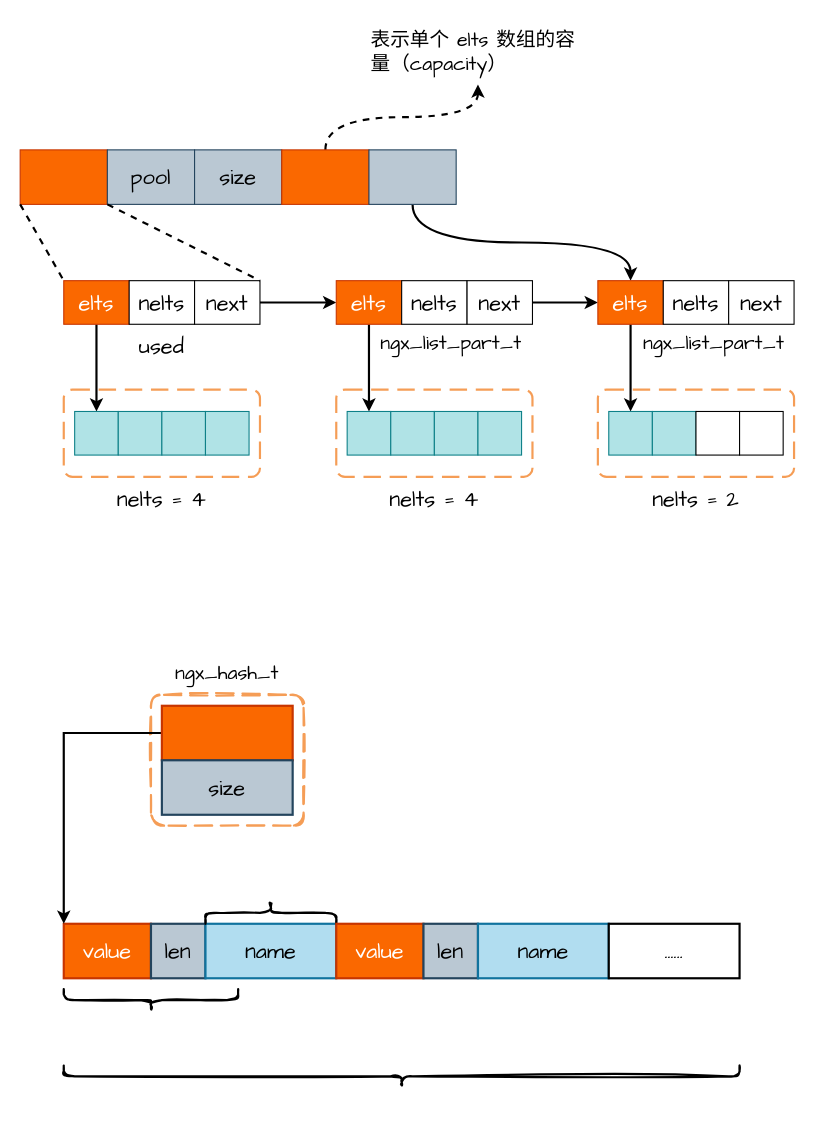
Image size: 814x1140. Some labels were removed from this diagram. Here are the shapes that lost their labels. From the top down, the centre of each, then its label:
At point (63, 176): "part".
At point (325, 176): "nalloc".
At point (412, 176): "last".
At point (226, 732): "buckets".
At point (270, 912): "运行时确定".
At point (150, 1000): "ngx_hash_elt_t".
At point (401, 1076): "size 个元素".
